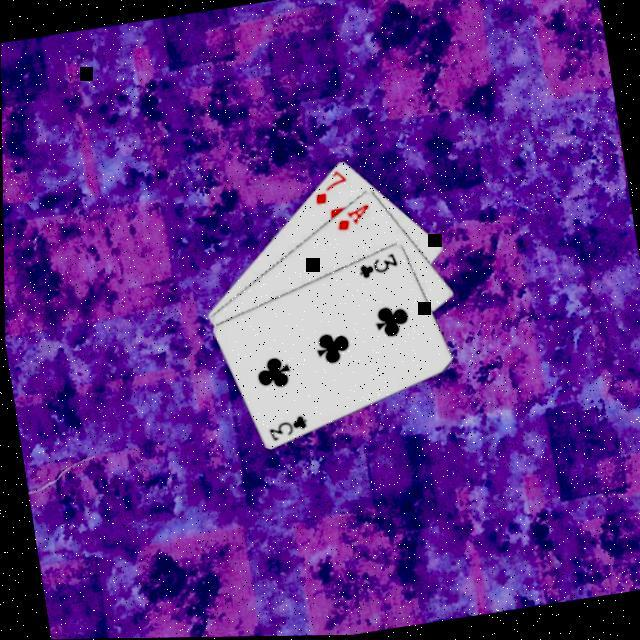3C: (354, 247, 403, 282), (265, 409, 313, 444)
7D: (309, 165, 354, 207)
AD: (332, 199, 376, 233)
